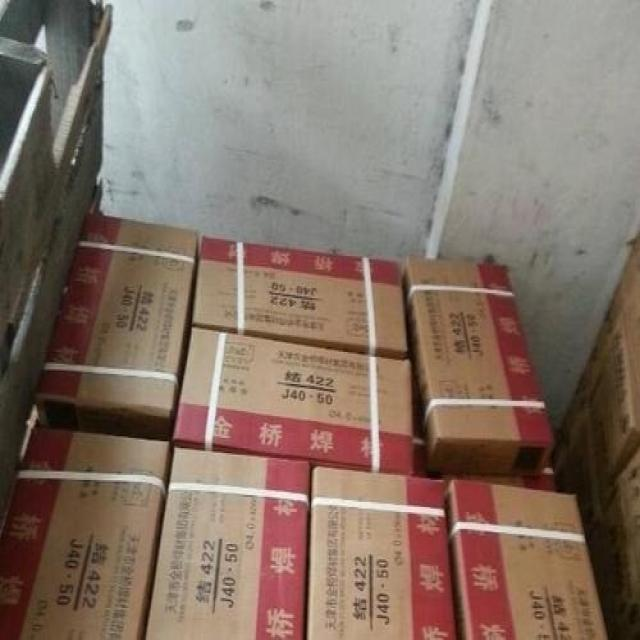box: (36, 216, 197, 440), (1, 429, 168, 640), (170, 328, 412, 470), (147, 446, 311, 640), (402, 259, 552, 470), (445, 483, 608, 640), (310, 467, 454, 640), (192, 239, 408, 354), (444, 470, 553, 492)
